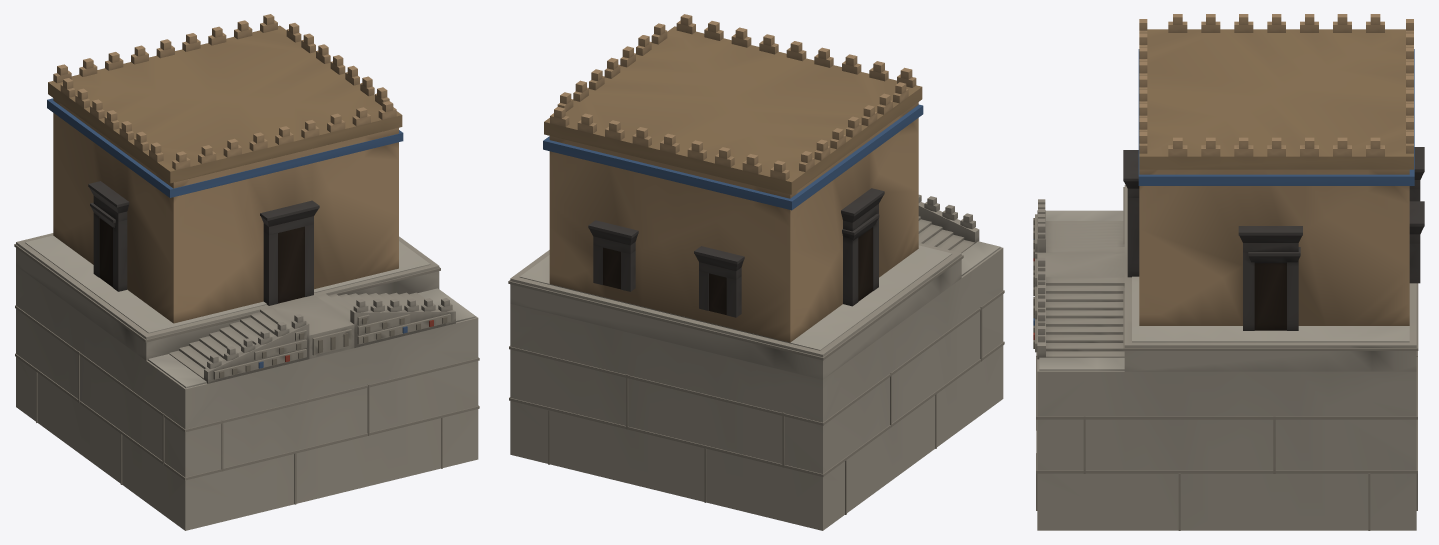
The model's file is tripylon.glb.
The picture shows the model from 3 angles, left to right: view 1: azimuth 30°, elevation 25°; view 2: azimuth 150°, elevation 25°; view 3: azimuth 270°, elevation 25°; orthographic projection. The views are drawn at different scales.
Parts seen in each view (by area): view 1: p0_platform, p1_walls, p2_roof; view 2: p0_platform, p1_walls, p2_roof; view 3: p0_platform, p2_roof, p1_walls.
Part boxes in pixels (<box>): p0_platform: <box>14,233,479,530</box>; p1_walls: <box>53,98,398,323</box>; p2_roof: <box>47,14,403,197</box>; p0_platform: <box>508,194,1004,530</box>; p1_walls: <box>549,102,918,342</box>; p2_roof: <box>543,14,923,210</box>; p0_platform: <box>1033,185,1418,530</box>; p2_roof: <box>1138,14,1414,185</box>; p1_walls: <box>1123,147,1424,330</box>.
Size of the model in its own units: 26.2 by 28.17 by 26.8.
